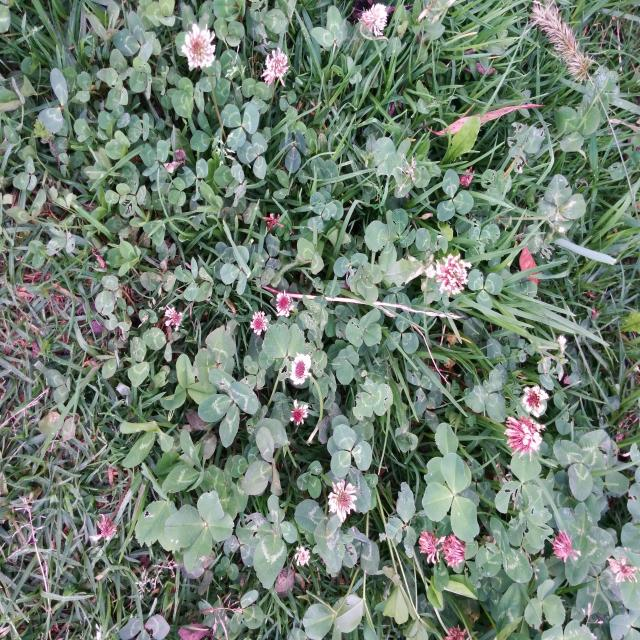Four Leaf Clover: (164, 493, 234, 573)
